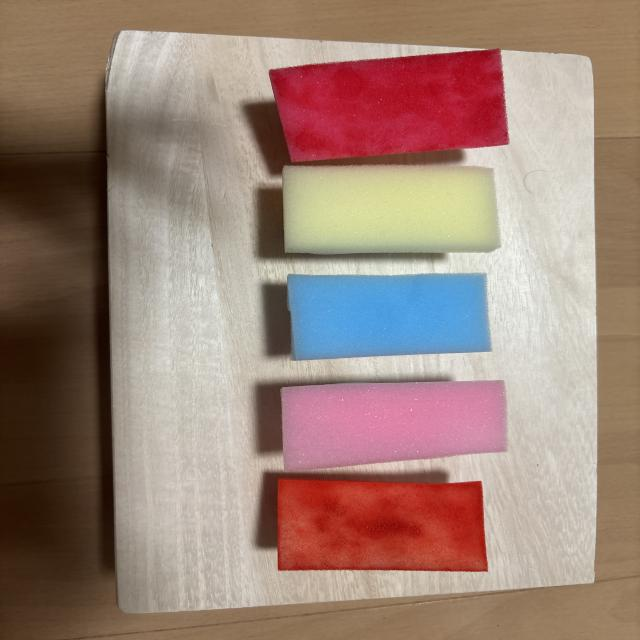ika: (288, 274, 491, 360)
maguro: (269, 49, 509, 161)
salmon: (277, 478, 487, 572)
tai: (281, 380, 506, 471)
tamago: (283, 165, 500, 253)
